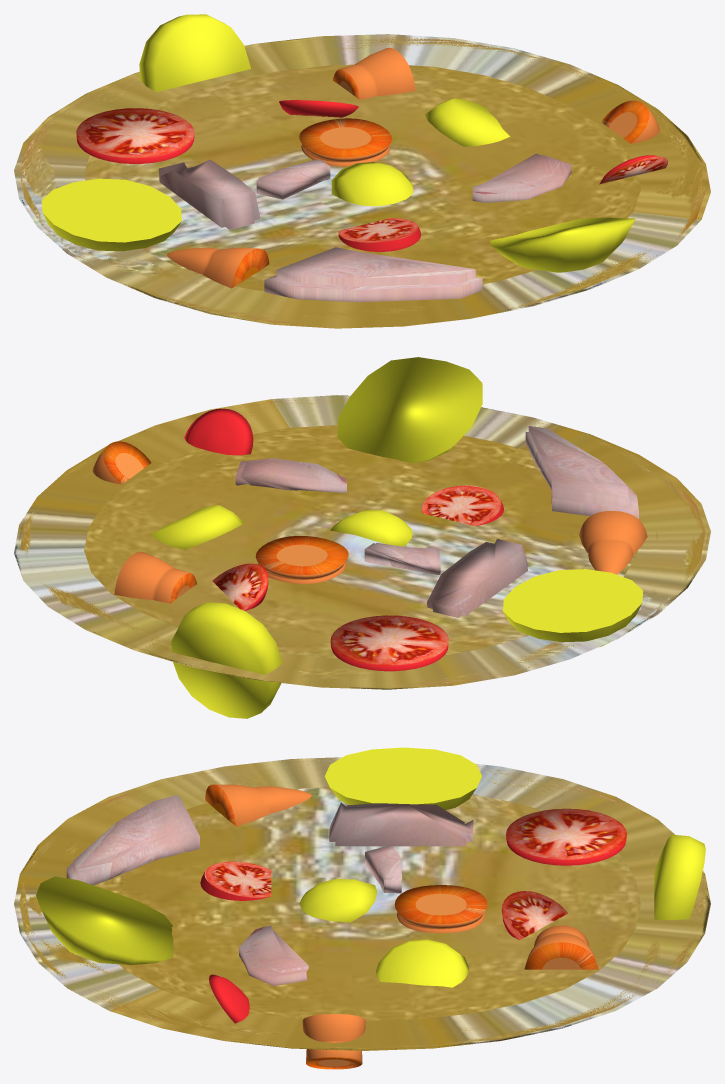
File: air sop .fbx
The picture shows the model from 3 angles, top to bottom: view 1: azimuth 30°, elevation 25°; view 2: azimuth 150°, elevation 25°; view 3: azimuth 270°, elevation 25°; orthographic projection. The views are drawn at different scales.
Parts seen in each view (by area): view 1: air kaldu.001, potongan 0003.001, kentang.002, kentang.003, potongan.007, kentang.005, potongan 003.001, wortel .001, potongan 03.001, kentang.006, potongan 2.001, potongan.006 (+6 smaller); view 2: air kaldu.001, kentang.005, kentang.003, kentang.002, potongan 0003.001, potongan.007, potongan 003.001, wortel .001, potongan.006, potongan 03.001, potongan 2.001, potongan.008 (+6 smaller); view 3: air kaldu.001, kentang.005, kentang.002, potongan 0003.001, potongan.007, potongan 003.001, wortel .001, kentang.003, kentang.004, potongan.006, potongan 03.001, wortel .002 (+6 smaller).
Boxes of the visible parts, box(x1,y1,x2,y2) form: air kaldu.001: box(14, 34, 710, 328); potongan 0003.001: box(264, 247, 482, 302); kentang.002: box(41, 178, 181, 251); kentang.003: box(139, 14, 250, 91); potongan.007: box(76, 108, 194, 163); kentang.005: box(490, 217, 635, 272); potongan 003.001: box(158, 159, 260, 229); wortel .001: box(299, 118, 392, 166); potongan 03.001: box(472, 153, 571, 202); kentang.006: box(331, 162, 413, 206); potongan 2.001: box(333, 47, 415, 99); potongan.006: box(167, 247, 269, 288); air kaldu.001: box(14, 395, 710, 689); kentang.005: box(337, 357, 482, 463); kentang.003: box(171, 602, 282, 718); kentang.002: box(503, 569, 643, 646); potongan 0003.001: box(525, 426, 638, 518); potongan.007: box(330, 615, 448, 671); potongan 003.001: box(427, 538, 528, 617); wortel .001: box(255, 536, 348, 583); potongan.006: box(579, 511, 647, 574); potongan 03.001: box(235, 458, 346, 492); potongan 2.001: box(114, 551, 196, 603); potongan.008: box(421, 485, 503, 525); air kaldu.001: box(14, 757, 710, 1050); kentang.005: box(36, 876, 173, 964); kentang.002: box(324, 747, 481, 809); potongan 0003.001: box(66, 794, 199, 885); potongan.007: box(506, 808, 626, 865); potongan 003.001: box(329, 802, 473, 846); wortel .001: box(394, 885, 487, 933); kentang.003: box(654, 834, 705, 920); kentang.004: box(376, 939, 469, 987); potongan.006: box(205, 784, 311, 826); potongan 03.001: box(239, 925, 308, 985); wortel .002: box(302, 1014, 365, 1069).
Bounding box in the file's own units: 701 × 131 × 701.
Materials: 9 (4 with a texture image).
